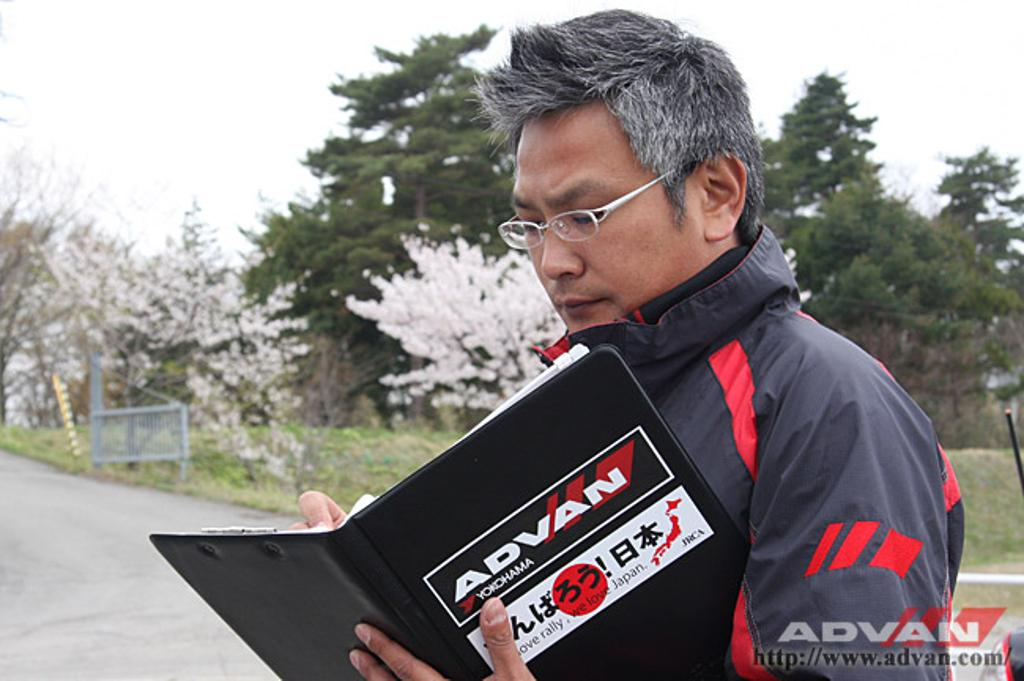face: (512, 130, 668, 338)
